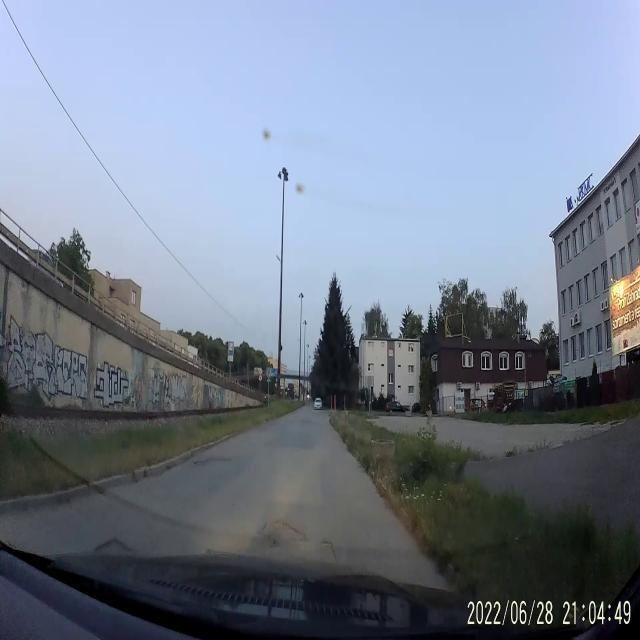Pothole: (260, 512, 310, 545), (190, 455, 228, 468)
